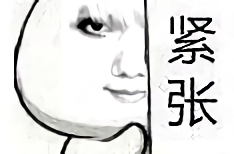dragon: (71, 9, 147, 106)
